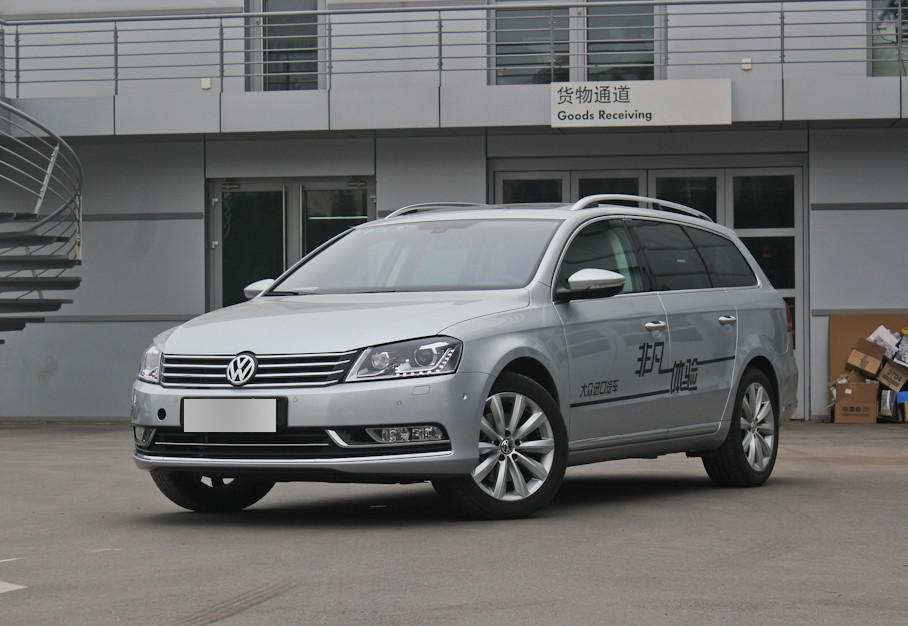Wagon: (127, 192, 800, 522)
